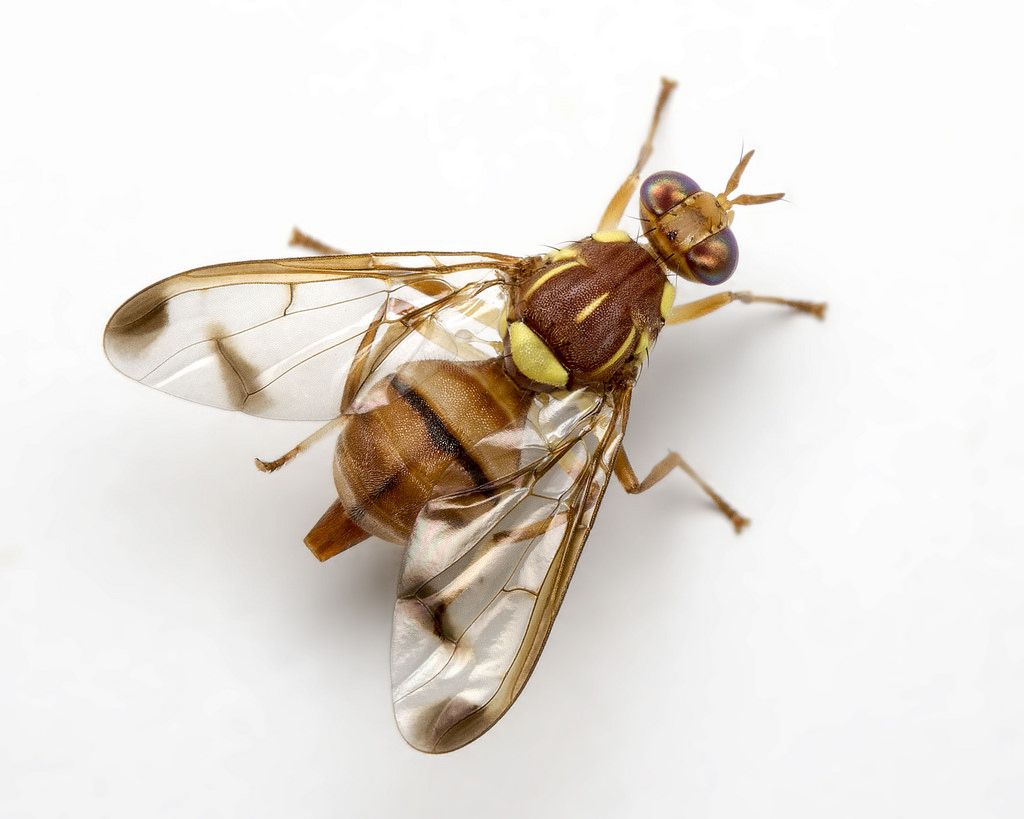Fruit Flies: (97, 69, 836, 758)
